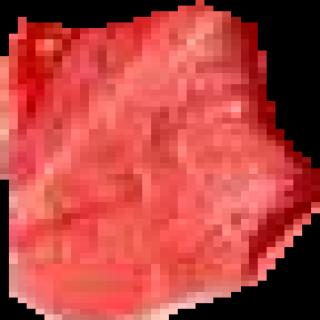pork: (0, 0, 320, 320)
